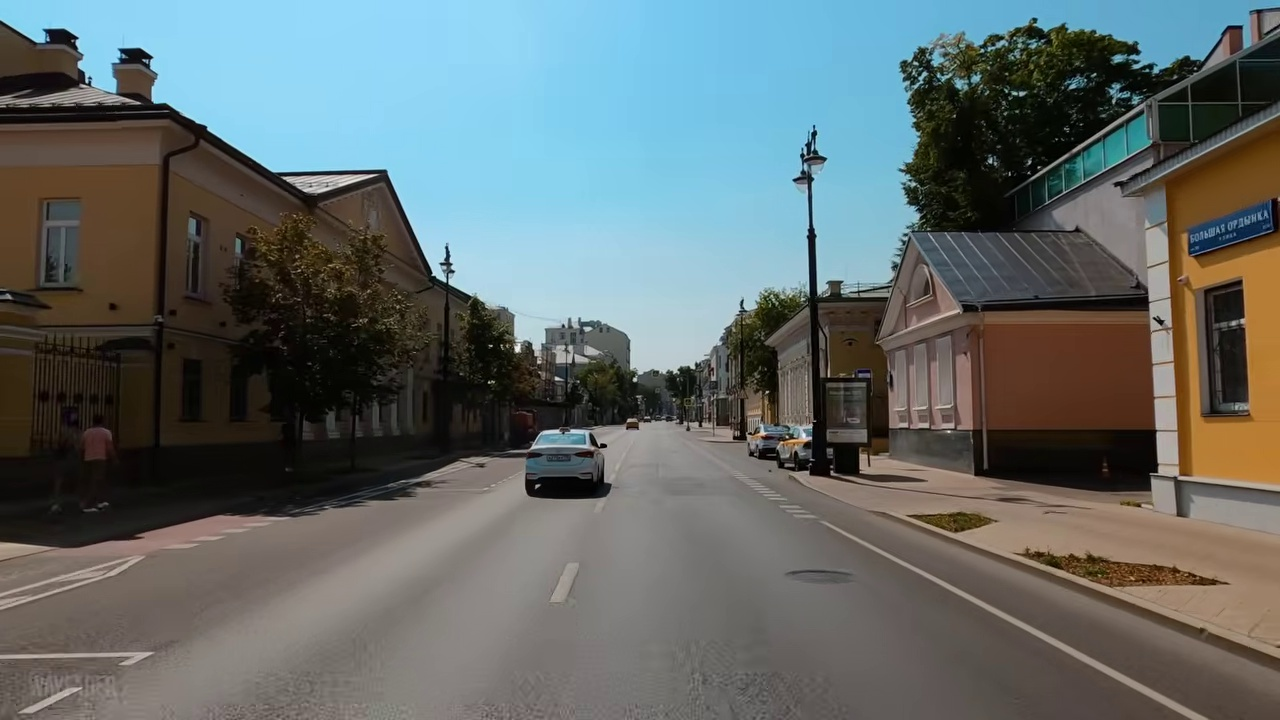apagada: (787, 142, 831, 194)
